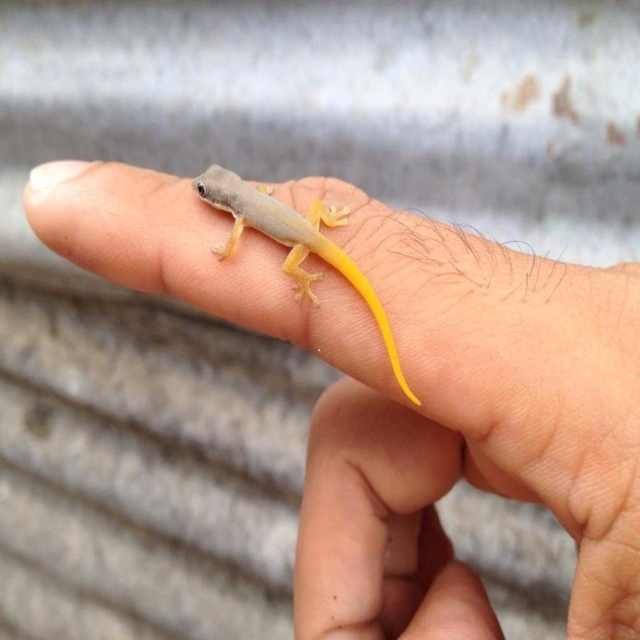Lizard: (185, 163, 412, 378)
